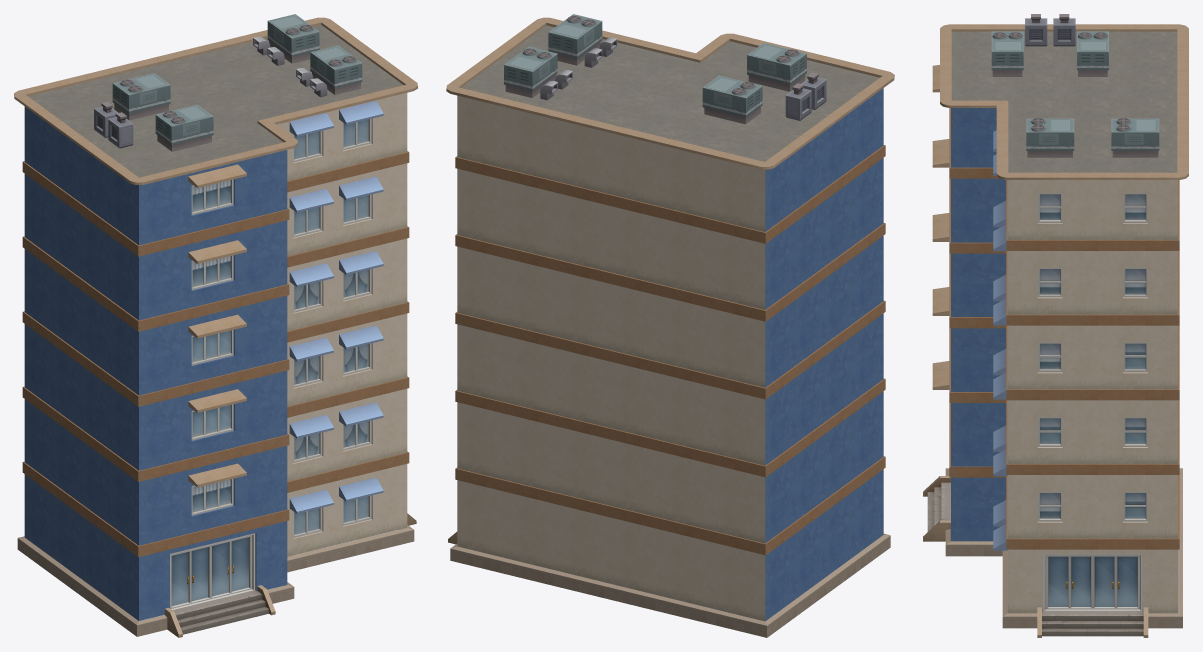
Rendered from Building_10_1_1.glb.
3 renders of one model, left to right at view 1: azimuth 30°, elevation 25°; view 2: azimuth 150°, elevation 25°; view 3: azimuth 270°, elevation 25°, orthographic. The views are drawn at different scales.
Visible parts, largest first — view 1: Building_10_1_Roof_1; view 2: Building_10_1_Roof_1; view 3: Building_10_1_Roof_1.
Boxes of the visible parts, left/top/right/bottom form: Building_10_1_Roof_1: left=14, top=14, right=417, bottom=637; Building_10_1_Roof_1: left=446, top=14, right=894, bottom=637; Building_10_1_Roof_1: left=923, top=14, right=1188, bottom=637.
Bounding box in the file's own units: 13.36 × 18.6 × 9.36.
11 materials, 11 textured.
